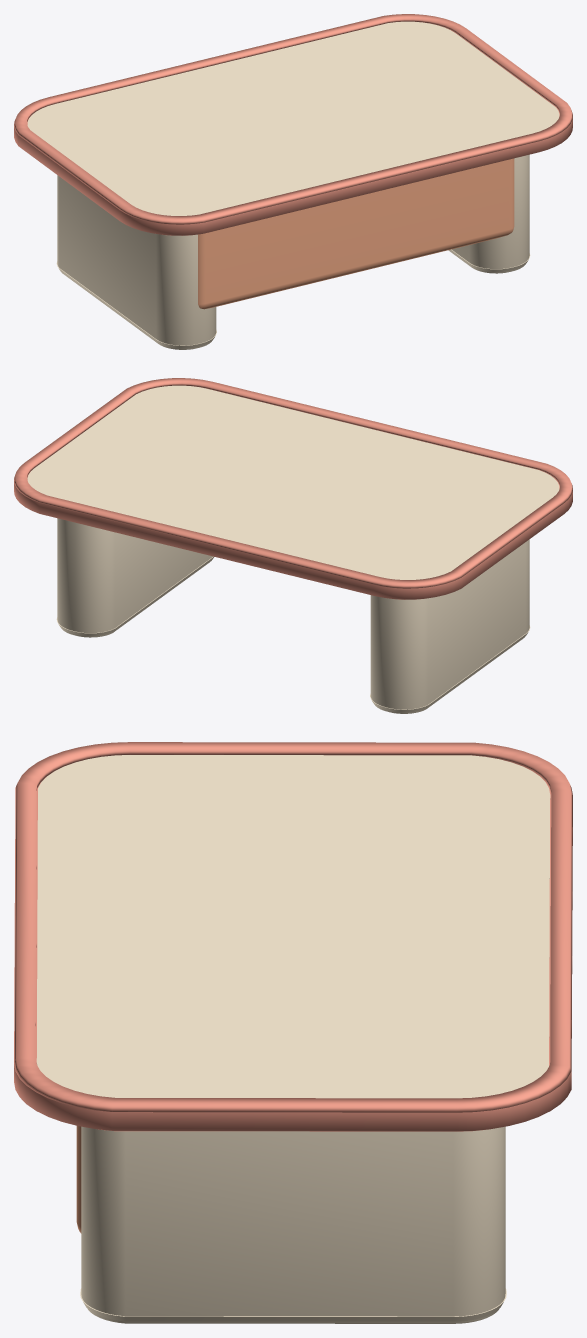
The model's file is counter.glb.
The picture shows the model from 3 angles, top to bottom: view 1: azimuth 30°, elevation 25°; view 2: azimuth 150°, elevation 25°; view 3: azimuth 270°, elevation 25°; orthographic projection. The views are drawn at different scales.
Parts seen in each view (by area): view 1: counter_top_cream, counter_front_apron, counter_support, counter_rim, counter_top_base, counter_support.001, counter_foot_trim; view 2: counter_top_cream, counter_support, counter_rim, counter_support.001, counter_top_base, counter_foot_trim, counter_foot_trim.001; view 3: counter_top_cream, counter_support.001, counter_rim, counter_top_base, counter_foot_trim.001.
Part boxes in pixels (bbox=[...]): counter_top_cream: bbox=[27, 21, 559, 215]; counter_front_apron: bbox=[198, 158, 514, 309]; counter_support: bbox=[57, 175, 216, 349]; counter_rim: bbox=[14, 14, 572, 224]; counter_top_base: bbox=[14, 107, 572, 235]; counter_support.001: bbox=[448, 154, 529, 273]; counter_foot_trim: bbox=[56, 261, 216, 348]; counter_top_cream: bbox=[27, 385, 559, 579]; counter_support: bbox=[370, 539, 529, 713]; counter_rim: bbox=[14, 378, 572, 588]; counter_support.001: bbox=[57, 518, 212, 637]; counter_top_base: bbox=[14, 471, 572, 599]; counter_foot_trim: bbox=[370, 625, 530, 712]; counter_foot_trim.001: bbox=[56, 556, 214, 636]; counter_top_cream: bbox=[36, 755, 550, 1098]; counter_support.001: bbox=[81, 1126, 505, 1323]; counter_rim: bbox=[14, 742, 572, 1112]; counter_top_base: bbox=[14, 777, 572, 1131]; counter_foot_trim.001: bbox=[80, 1288, 506, 1321].
Size of the model in its own units: 3.8 by 1.21 by 2.45.
